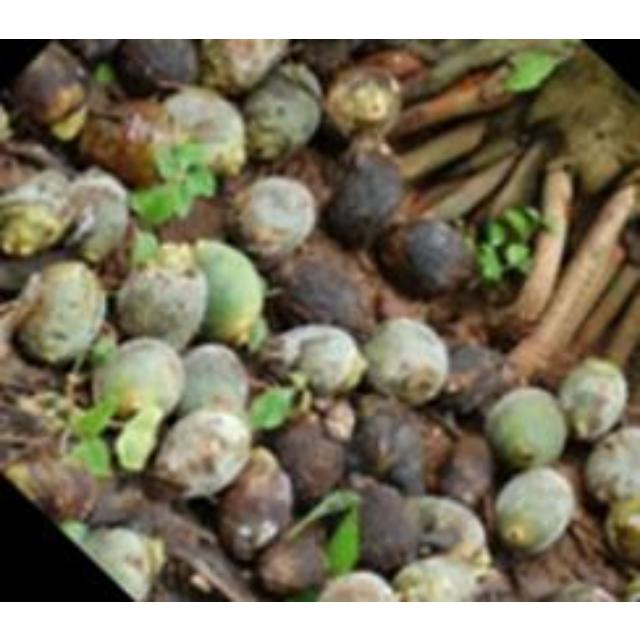damaged: (14, 260, 108, 366), (114, 248, 210, 348), (270, 249, 374, 337), (153, 408, 253, 498), (77, 100, 177, 188), (217, 450, 295, 560), (189, 238, 267, 346), (92, 337, 188, 423), (324, 148, 404, 248), (360, 316, 450, 404), (264, 322, 366, 398), (380, 217, 474, 299), (242, 66, 324, 160), (161, 86, 247, 172), (228, 174, 316, 258), (271, 413, 349, 507), (130, 143, 220, 224), (348, 406, 428, 494), (493, 466, 573, 554), (483, 388, 567, 470), (1, 167, 77, 257), (6, 452, 100, 524), (348, 479, 419, 573), (60, 170, 130, 264), (12, 45, 90, 125), (324, 63, 402, 139), (477, 204, 548, 286), (440, 341, 516, 417), (559, 358, 627, 440), (178, 344, 250, 418), (83, 525, 157, 597), (282, 486, 362, 550), (114, 38, 198, 98), (258, 528, 328, 598), (143, 504, 224, 564), (433, 428, 492, 506), (586, 426, 640, 504), (157, 550, 229, 600), (1, 397, 61, 457), (510, 551, 578, 601), (86, 479, 156, 527), (76, 70, 130, 128), (369, 274, 427, 326), (254, 326, 306, 379), (500, 50, 564, 92), (602, 494, 640, 564), (356, 46, 424, 84), (108, 98, 172, 138), (248, 384, 300, 432), (298, 38, 360, 78), (69, 396, 119, 444), (4, 456, 46, 504), (278, 60, 324, 100), (150, 238, 197, 274), (1, 146, 36, 192), (136, 472, 186, 504), (464, 568, 512, 600), (62, 38, 121, 64), (322, 398, 358, 440), (556, 580, 622, 602), (620, 222, 640, 264)
